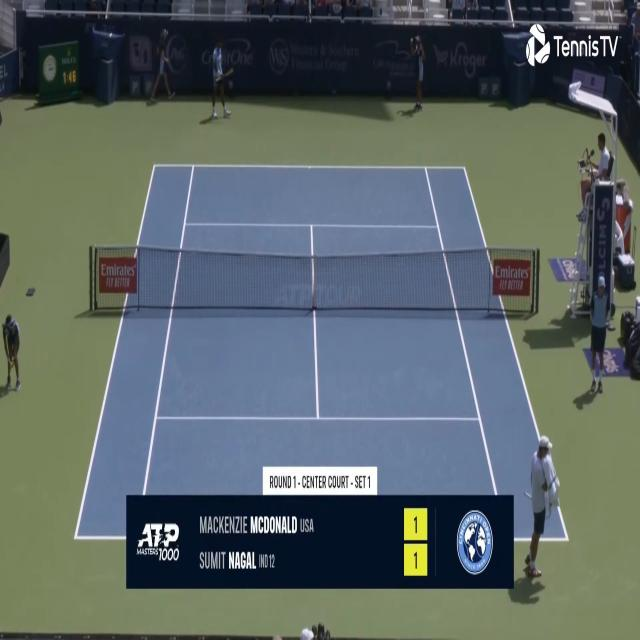tennis-player: (522, 432, 561, 578), (207, 31, 235, 120)
